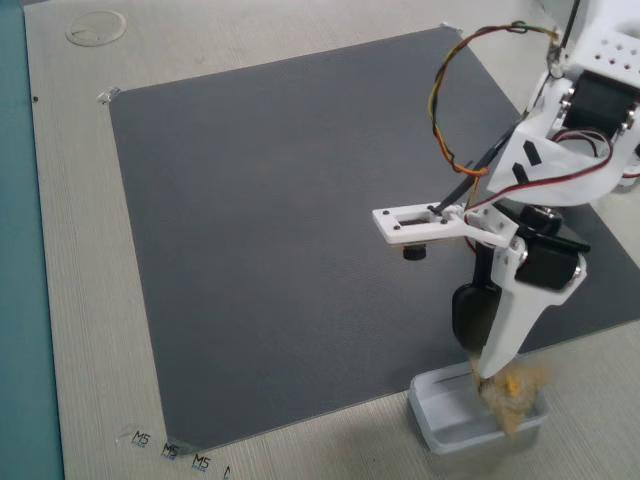gripper: (410, 200, 586, 359)
